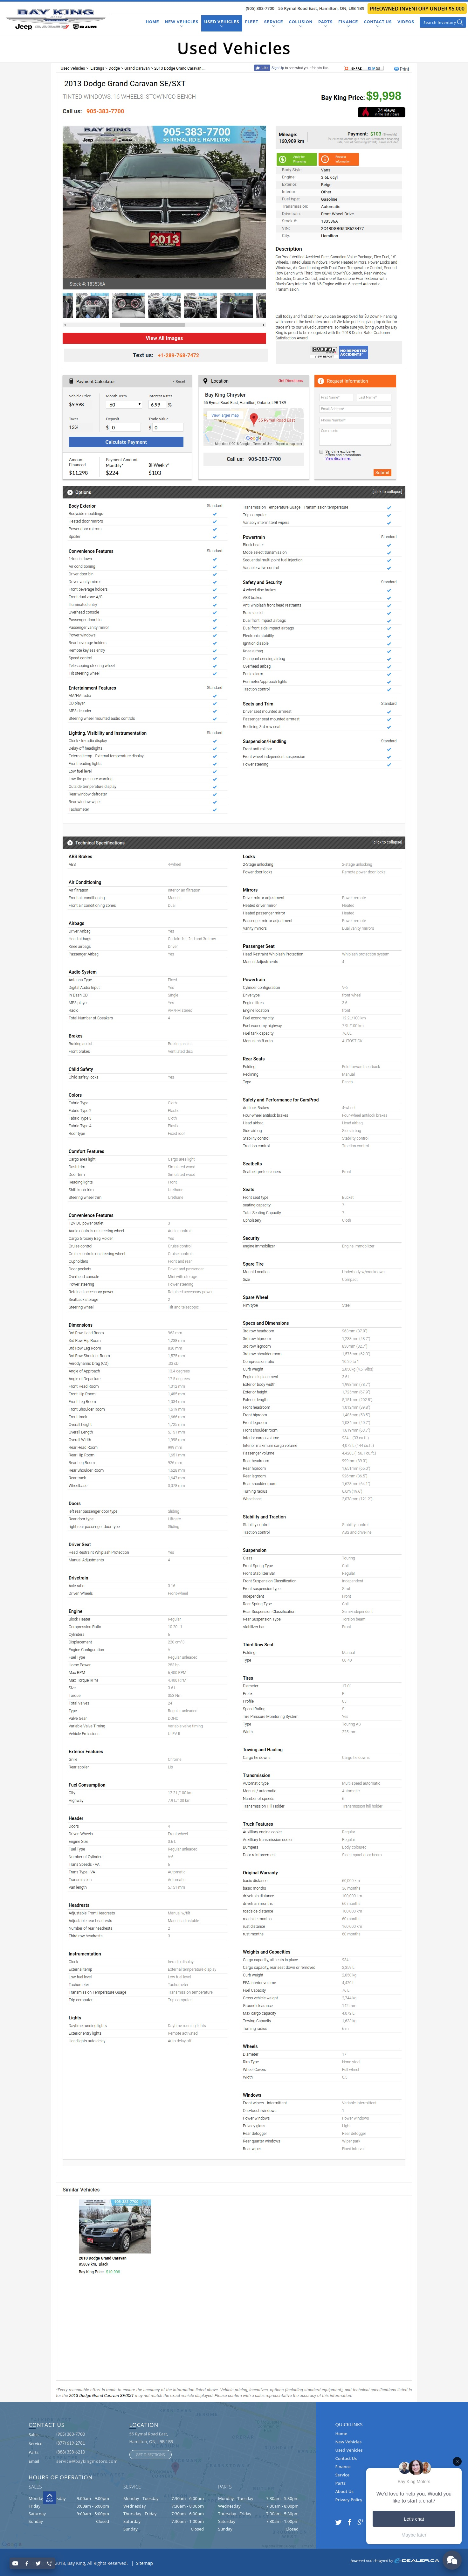car: (253, 195, 266, 209)
